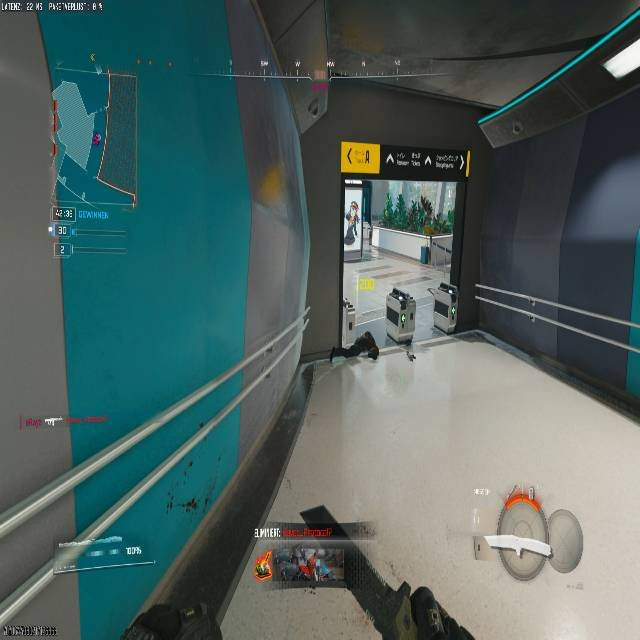head: (350, 201, 357, 208)
player: (366, 284, 416, 361), (346, 201, 359, 240)
